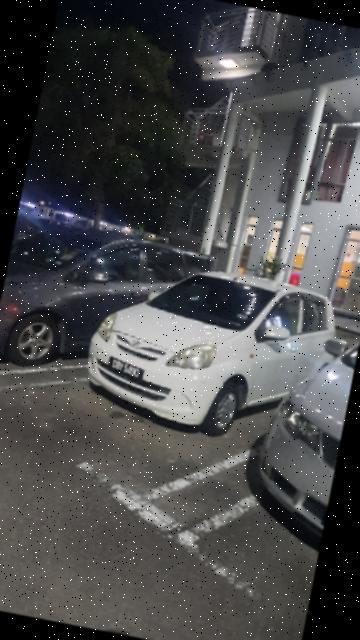License_Plate: (103, 354, 147, 386)
car: (78, 246, 350, 460), (248, 322, 360, 536)
